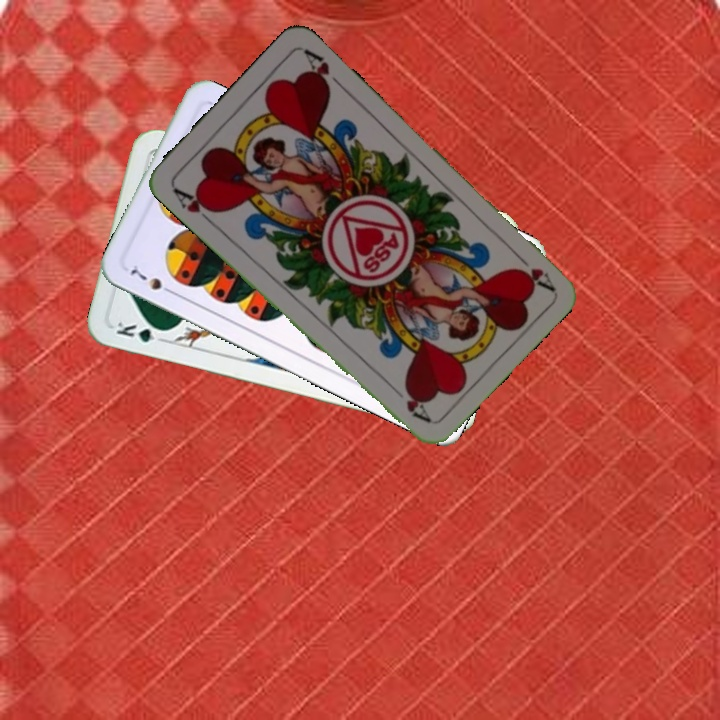GK: (112, 318, 170, 345)
HA: (169, 183, 221, 228), (508, 247, 556, 293)
S7: (127, 261, 178, 298)
